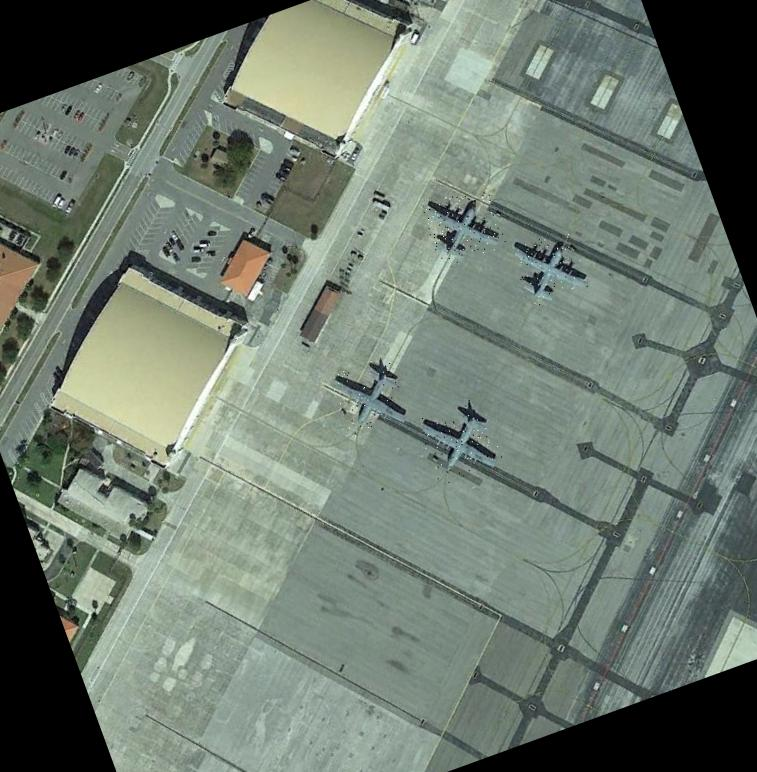A2: (414, 395, 504, 486), (419, 182, 508, 270), (328, 354, 412, 438), (510, 228, 590, 308)
